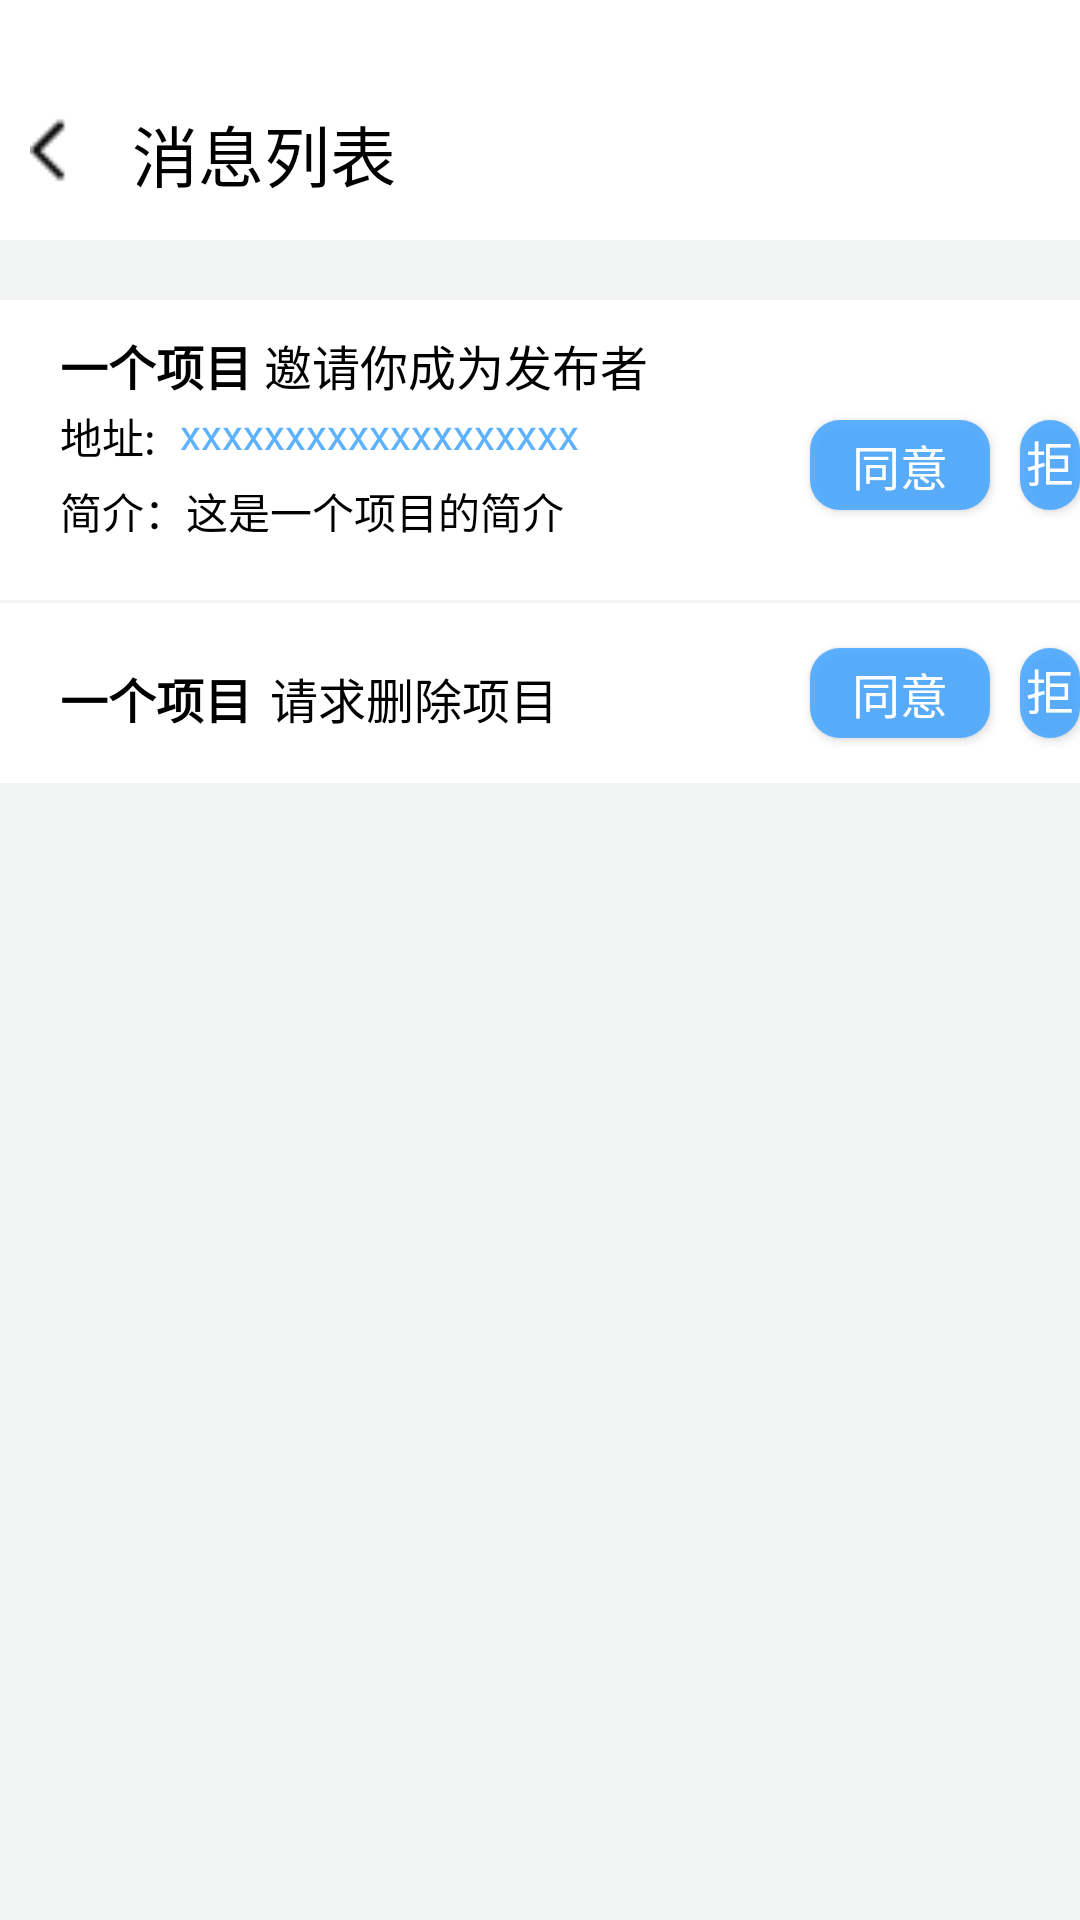

Icon click points for this 1080px×1920px phone screenshot, format (x=x, y=y):
back: (x=47, y=150)
